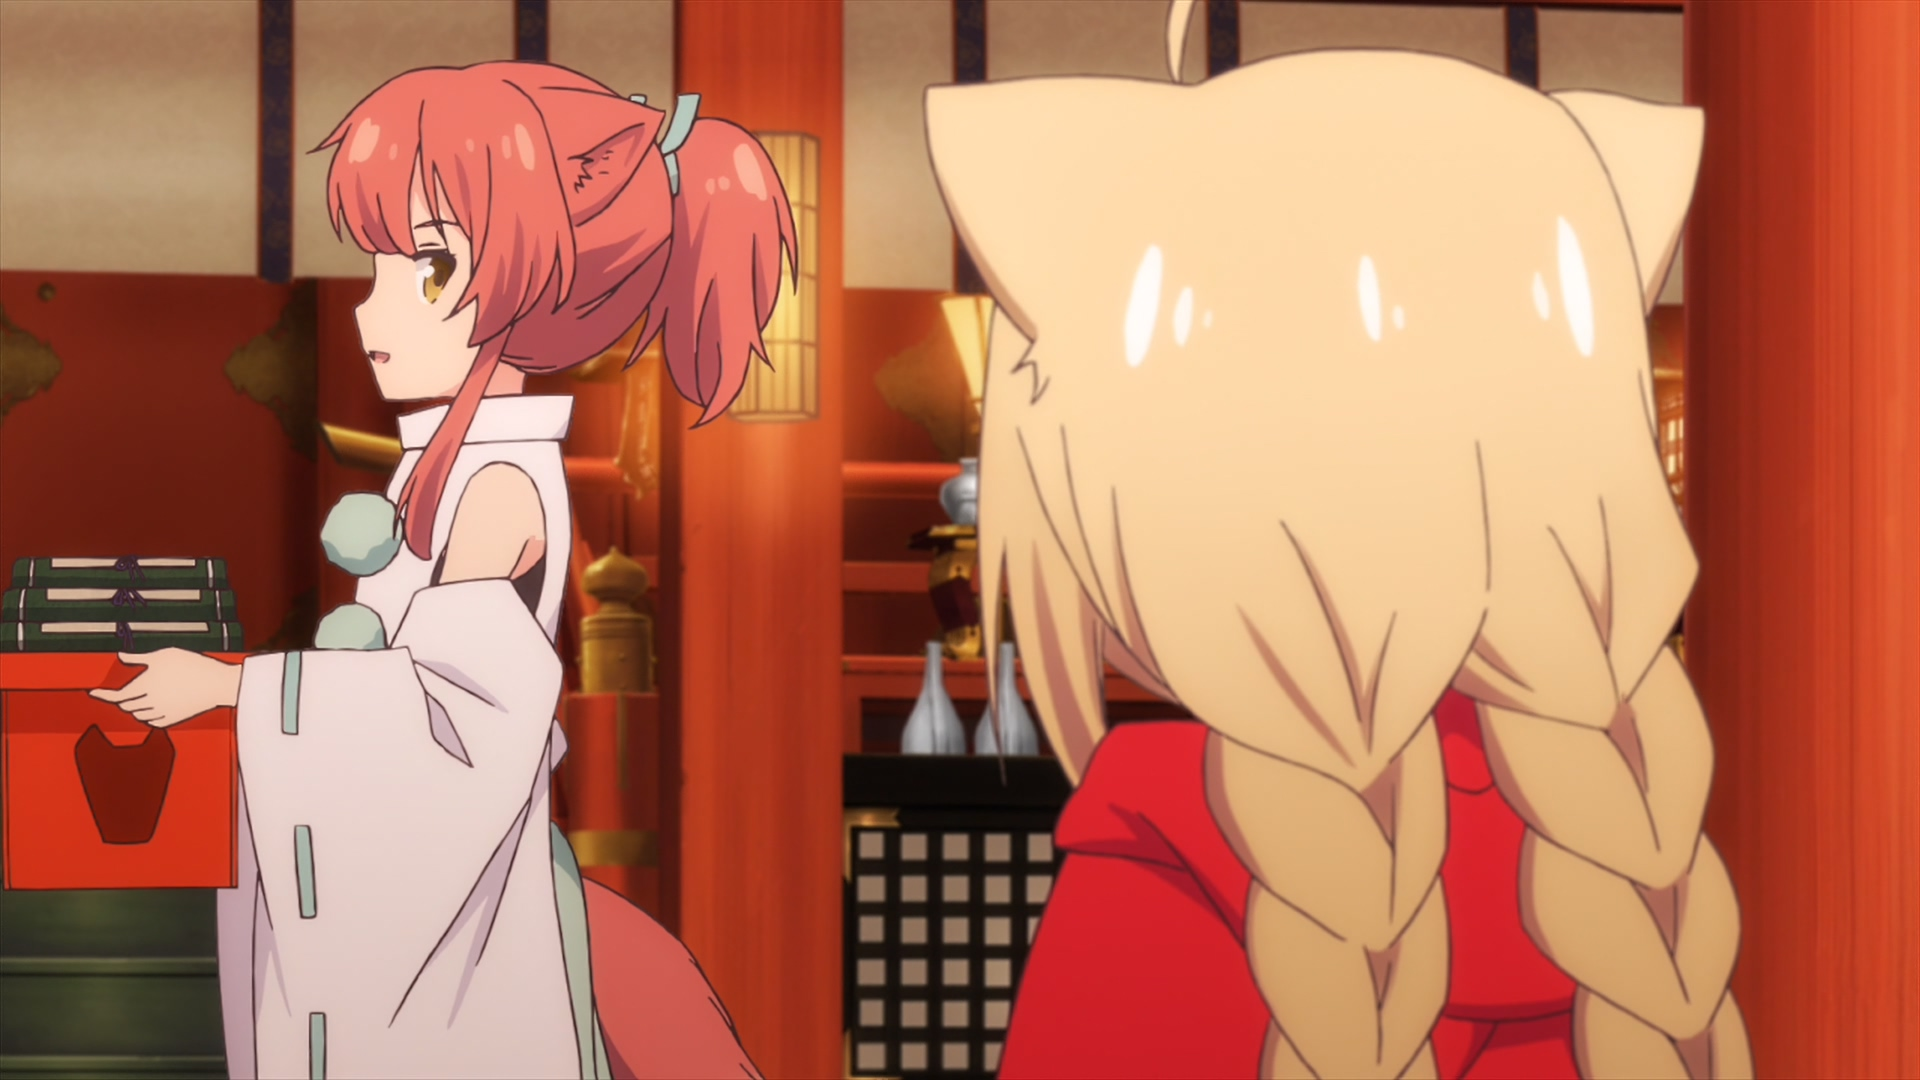柚: (922, 1, 1753, 1080)
椿: (88, 63, 798, 1080)
